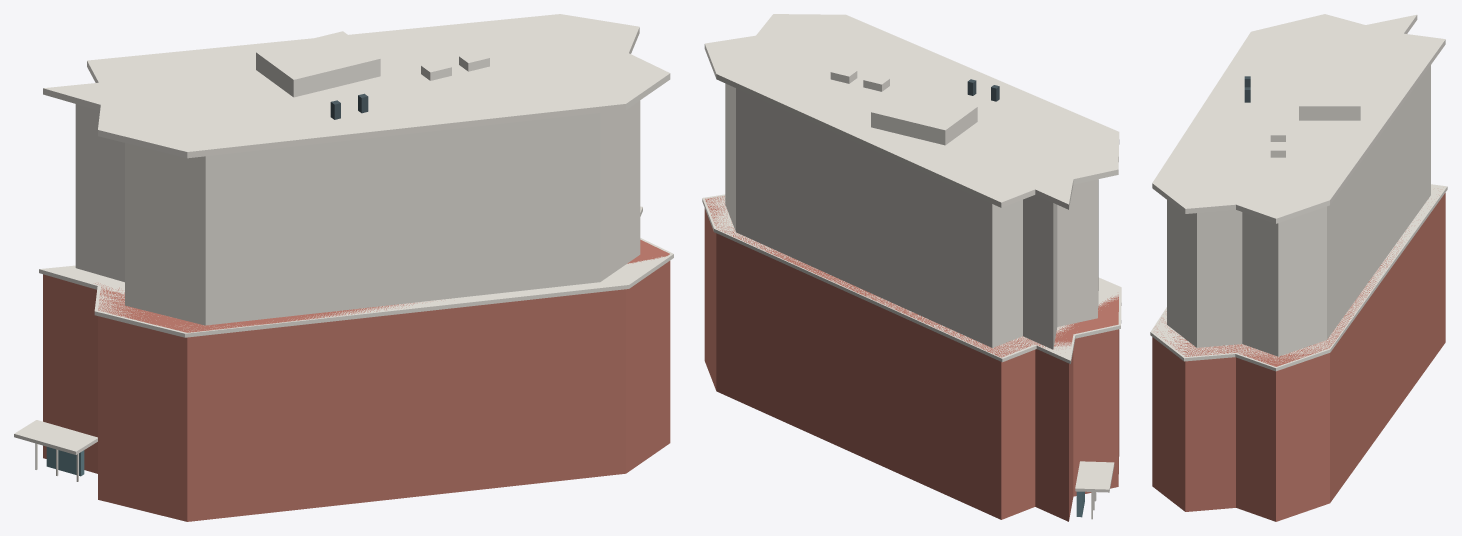
The model's file is choi_kai_yau_building.glb.
3 views of the same model, side by side, from view 1: azimuth 30°, elevation 25°; view 2: azimuth 150°, elevation 25°; view 3: azimuth 270°, elevation 25° (orthographic). The views are drawn at different scales.
Parts seen in each view (by area): view 1: Choi Kai Yau Building_base, Choi Kai Yau Building_upper, Choi Kai Yau Building_parapet, Choi Kai Yau Building_band, Choi Kai Yau Building_roof_plant, Choi Kai Yau Building_canopy, Choi Kai Yau Building_door; view 2: Choi Kai Yau Building_base, Choi Kai Yau Building_upper, Choi Kai Yau Building_parapet, Choi Kai Yau Building_band, Choi Kai Yau Building_roof_plant, Choi Kai Yau Building_canopy; view 3: Choi Kai Yau Building_base, Choi Kai Yau Building_upper, Choi Kai Yau Building_parapet, Choi Kai Yau Building_band, Choi Kai Yau Building_roof_plant.
Boxes of the visible parts, x1=… form: Choi Kai Yau Building_base: x1=43, y1=239, x2=670, y2=521; Choi Kai Yau Building_upper: x1=75, y1=100, x2=640, y2=325; Choi Kai Yau Building_parapet: x1=43, y1=14, x2=670, y2=158; Choi Kai Yau Building_band: x1=39, y1=206, x2=673, y2=337; Choi Kai Yau Building_roof_plant: x1=256, y1=31, x2=380, y2=97; Choi Kai Yau Building_canopy: x1=14, y1=420, x2=97, y2=454; Choi Kai Yau Building_door: x1=46, y1=447, x2=84, y2=476; Choi Kai Yau Building_base: x1=704, y1=196, x2=1119, y2=521; Choi Kai Yau Building_upper: x1=725, y1=83, x2=1098, y2=349; Choi Kai Yau Building_parapet: x1=704, y1=14, x2=1119, y2=209; Choi Kai Yau Building_band: x1=702, y1=194, x2=1121, y2=363; Choi Kai Yau Building_roof_plant: x1=871, y1=88, x2=977, y2=145; Choi Kai Yau Building_canopy: x1=1075, y1=461, x2=1114, y2=492; Choi Kai Yau Building_base: x1=1152, y1=193, x2=1445, y2=521; Choi Kai Yau Building_upper: x1=1167, y1=65, x2=1430, y2=356; Choi Kai Yau Building_parapet: x1=1152, y1=14, x2=1445, y2=223; Choi Kai Yau Building_band: x1=1150, y1=184, x2=1447, y2=371; Choi Kai Yau Building_roof_plant: x1=1299, y1=71, x2=1360, y2=120.
Bounding box in the file's own units: 50.82 × 34.1 × 28.91.
